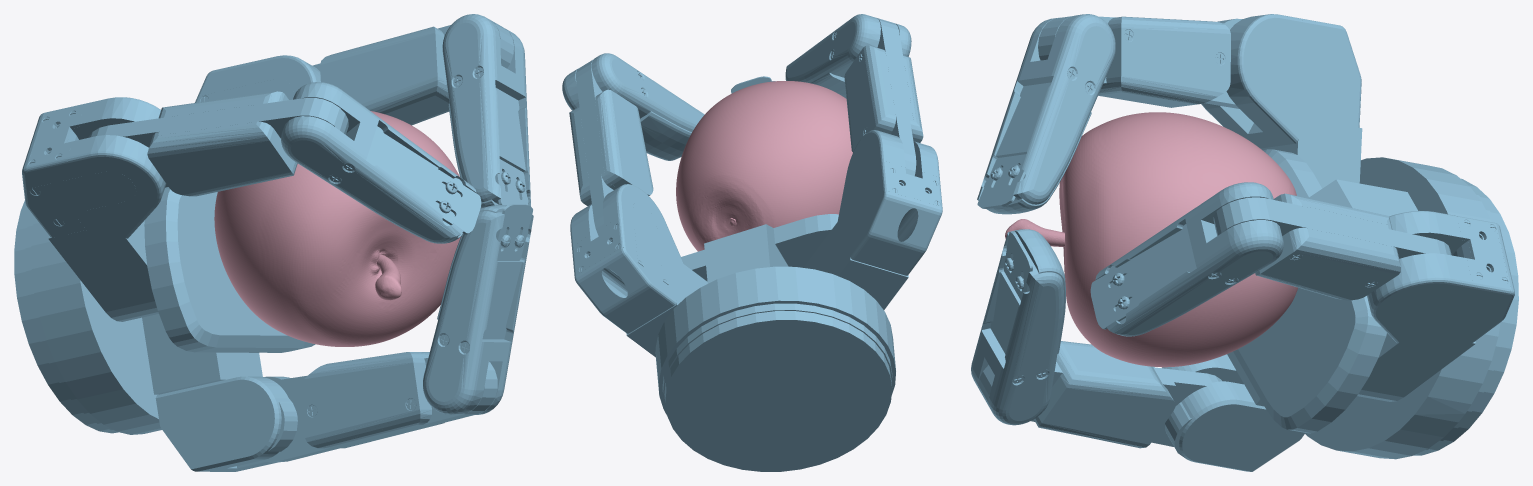
The picture shows the model from 3 angles, left to right: view 1: azimuth 30°, elevation 25°; view 2: azimuth 150°, elevation 25°; view 3: azimuth 270°, elevation 25°; orthographic projection. The views are drawn at different scales.
Visible parts, largest first — view 1: world; view 2: world; view 3: world.
Part boxes in pixels (box(x1,y1,x2,y2)): world: box(14, 14, 533, 471); world: box(562, 14, 942, 471); world: box(971, 14, 1518, 471).
Bounding box in the file's own units: 0.1697 × 0.1518 × 0.1641.
